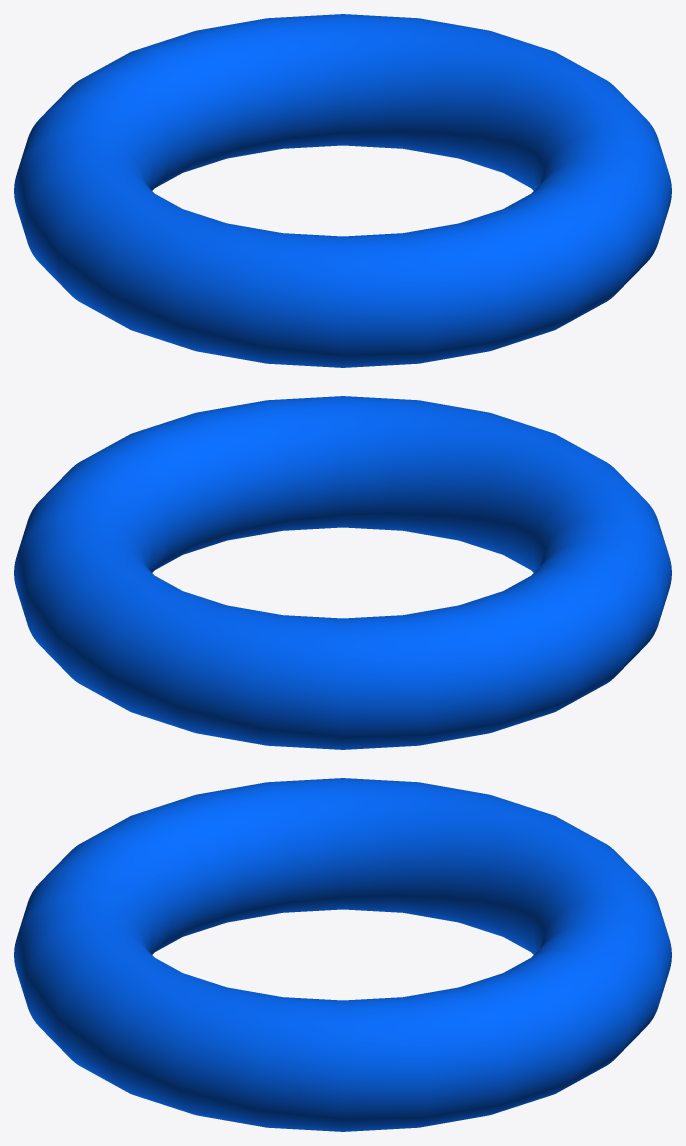
Rendered from BallSpawner.fbx.
3 views of the same model, one above another, from view 1: azimuth 30°, elevation 25°; view 2: azimuth 150°, elevation 25°; view 3: azimuth 270°, elevation 25° (orthographic).
Visible parts, largest first — view 1: Torus; view 2: Torus; view 3: Torus.
Part boxes in pixels (x1=…): Torus: x1=14, y1=14, x2=671, y2=367; Torus: x1=14, y1=396, x2=671, y2=749; Torus: x1=14, y1=778, x2=671, y2=1131.
Bounding box in the file's own units: 100 × 20 × 100.
